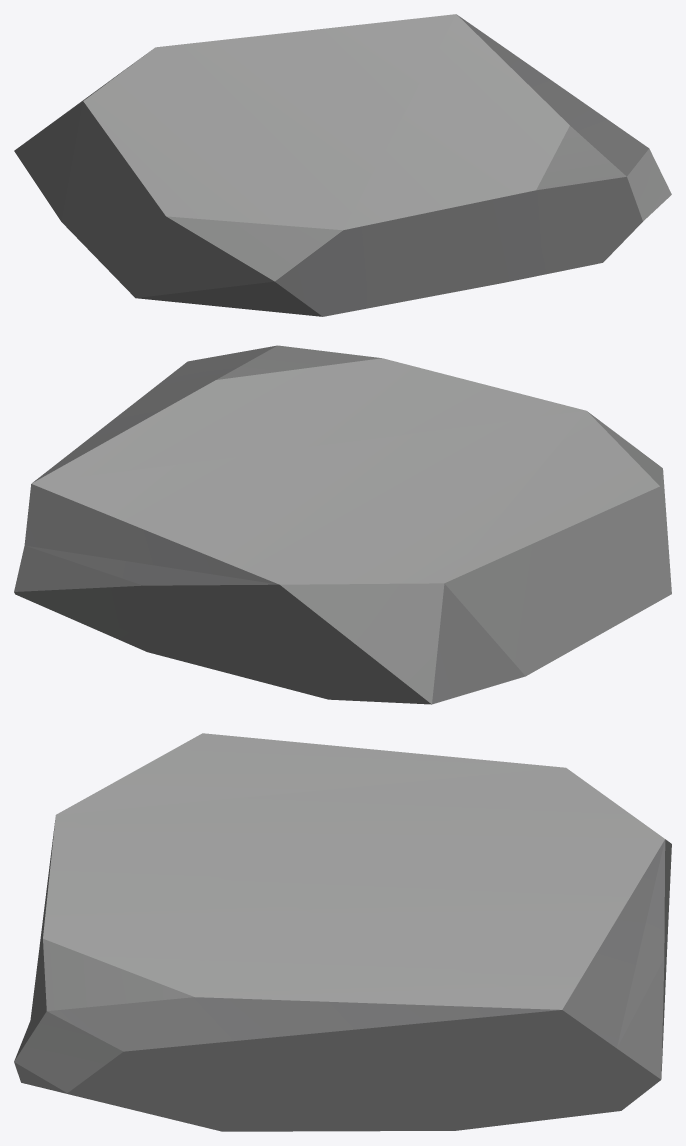
File: stones7.fbx
3 renders of one model, top to bottom at view 1: azimuth 30°, elevation 25°; view 2: azimuth 150°, elevation 25°; view 3: azimuth 270°, elevation 25°, orthographic. The views are drawn at different scales.
Parts seen in each view (by area): view 1: stones7; view 2: stones7; view 3: stones7.
Part boxes in pixels (box(x1,y1,x2,y2)): stones7: box(14, 14, 671, 316); stones7: box(14, 345, 671, 704); stones7: box(14, 733, 671, 1131).
Bounding box in the file's own units: 24.55 × 4.53 × 22.36.
